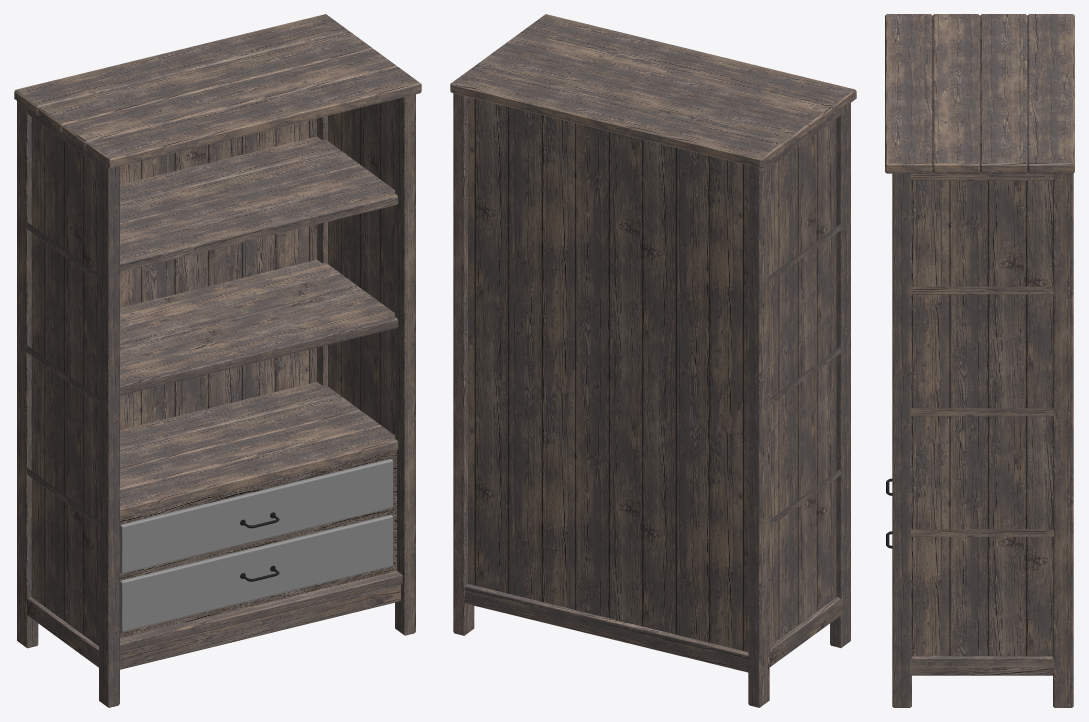
File: WoodCupboard01.FBX
The picture shows the model from 3 angles, left to right: view 1: azimuth 30°, elevation 25°; view 2: azimuth 150°, elevation 25°; view 3: azimuth 270°, elevation 25°; orthographic projection.
Parts seen in each view (by area): view 1: WoodCupbard01; view 2: WoodCupbard01; view 3: WoodCupbard01.
Boxes of the visible parts, left/top/right/bottom form: WoodCupbard01: left=14, top=14, right=421, bottom=707; WoodCupbard01: left=450, top=14, right=856, bottom=707; WoodCupbard01: left=885, top=14, right=1074, bottom=707.
Size of the model in its own units: 44.29 by 23.55 by 74.64.
